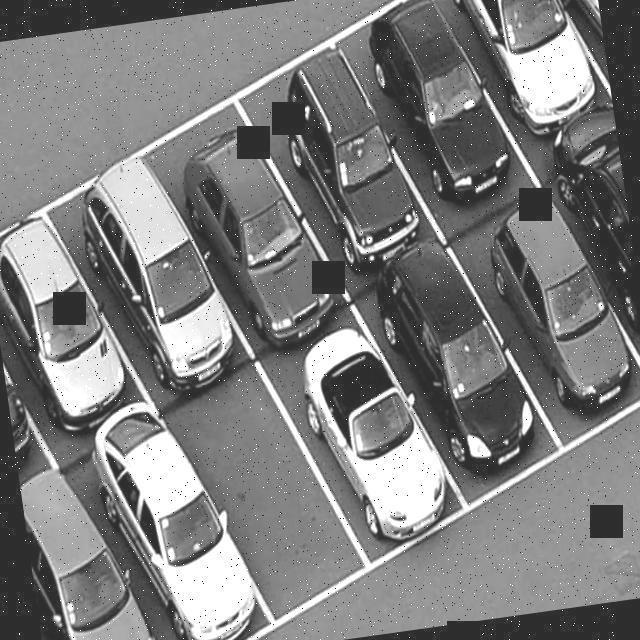space-empty: (168, 357, 379, 635)
space-occupied: (262, 308, 478, 577), (351, 240, 559, 498), (443, 187, 640, 445), (137, 113, 344, 356), (46, 145, 246, 382), (321, 0, 531, 225), (69, 418, 279, 640), (232, 59, 436, 277), (0, 227, 149, 445), (441, 0, 617, 156), (541, 129, 640, 371), (23, 488, 171, 640)
